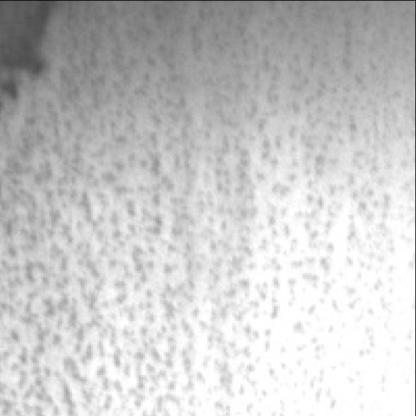patches: (2, 0, 57, 98)
pitted_surface: (27, 16, 389, 410)
